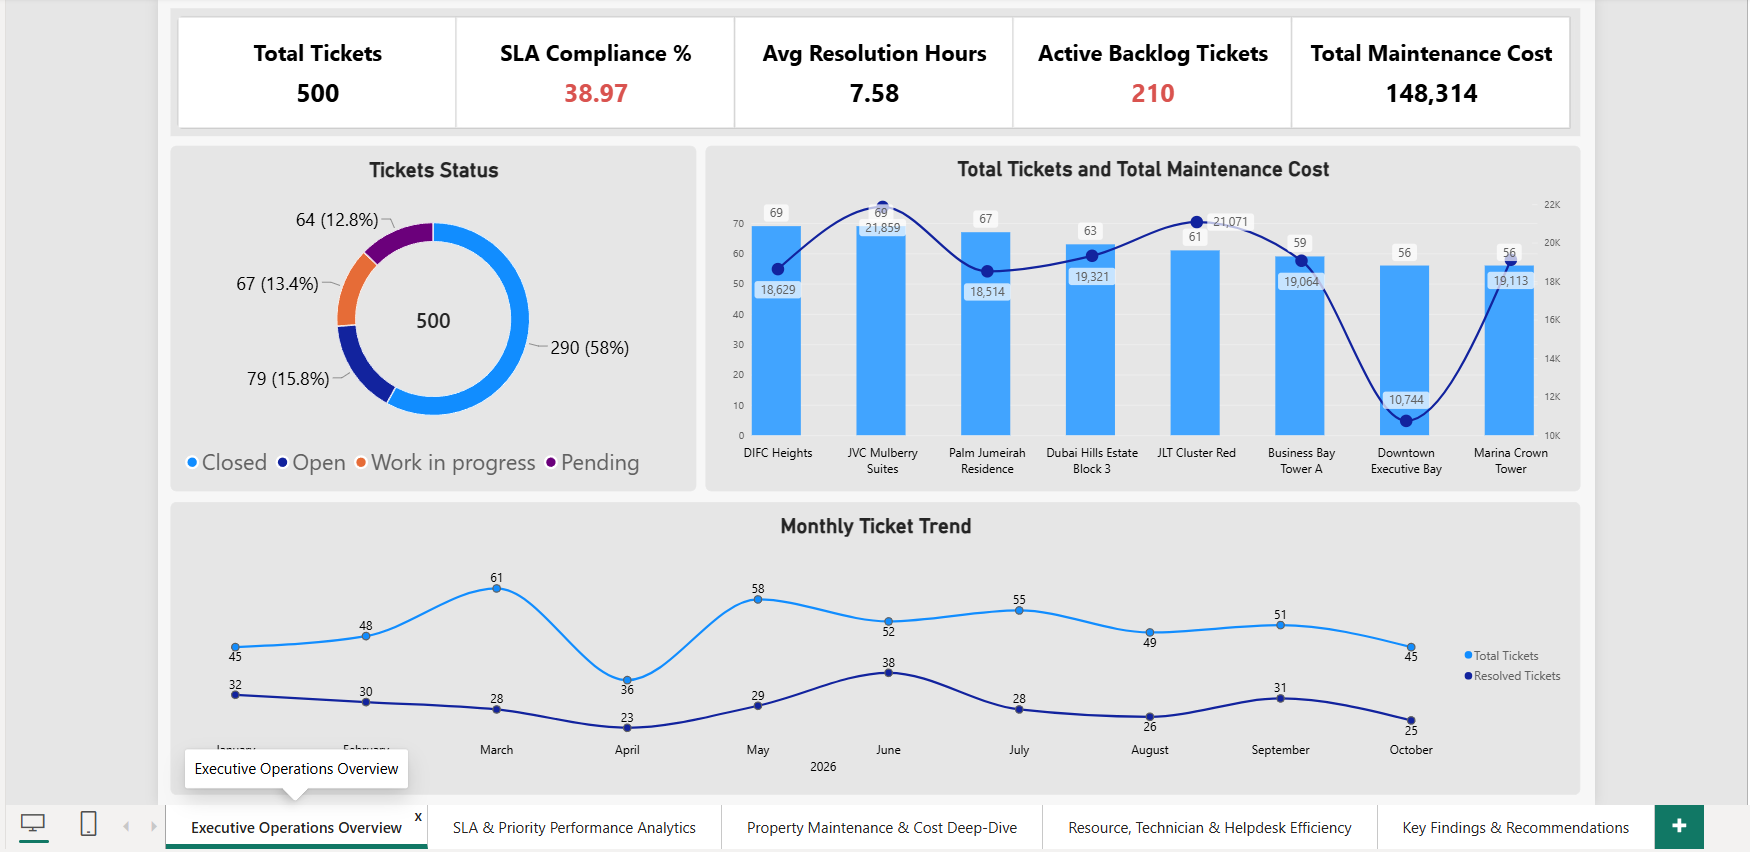

This screenshot's page, from the dashboard's own definition file:
{"tool":"powerbi","page":{"name":"Executive Operations  Overview","canvas":[1920,1080],"ordinal":0},"visuals":[{"type":"shape","box":[16.5,14.4,1883.4,170.8],"z":0},{"type":"cardVisual","fields":{"Data":["_Measures.Total Tickets","_Measures.SLA Compliance %","_Measures.Avg Resolution Time Hours","_Measures.Backlog Tickets","_Measures.Total Maintenance Cost AED"]},"box":[24.7,24.7,1866.9,152.3],"z":1000},{"type":"donutChart","title":"Tickets Status","fields":{"Category":["CAFM_Master_Enterprise_Dataset_500.Status"],"Y":["_Measures.Total Tickets"]},"box":[16.3,199.1,702.1,461.5],"z":2000},{"type":"lineClusteredColumnComboChart","title":"Total Tickets and Total Maintenance Cost ","fields":{"Category":["CAFM_Master_Enterprise_Dataset_500.Property_Name"],"Y":["_Measures.Total Tickets"],"Y2":["_Measures.Total Maintenance Cost"]},"box":[731.1,199.1,1169,461.5],"z":3000},{"type":"lineChart","title":"Monthly Ticket Trend","fields":{"Category":["CAFM_Master_Enterprise_Dataset_500.Created_Timestamp.Variation.Date Hierarchy.Year","CAFM_Master_Enterprise_Dataset_500.Created_Timestamp.Variation.Date Hierarchy.Month"],"Y":["_Measures.Total Tickets","_Measures.Resolved Tickets"]},"box":[16.5,675.1,1883.4,391.1],"z":4000}]}

Visuals, with their boxes on the page's 1920x1080 design canvas (x1, y1, x2, y2). These are canvas units, not pixel positions in the 1750x852 screenshot, which may show the page scaled, cropped or inside an application window:
shape: crop(16, 14, 1900, 185)
cardVisual - _Measures.Total Tickets x _Measures.SLA Compliance %: crop(25, 25, 1892, 177)
"Tickets Status" donutChart: crop(16, 199, 718, 661)
"Total Tickets and Total Maintenance Cost " lineClusteredColumnComboChart: crop(731, 199, 1900, 661)
"Monthly Ticket Trend" lineChart: crop(16, 675, 1900, 1066)
